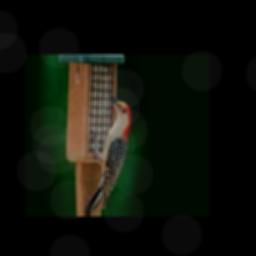Woodpecker: (84, 91, 131, 214)
